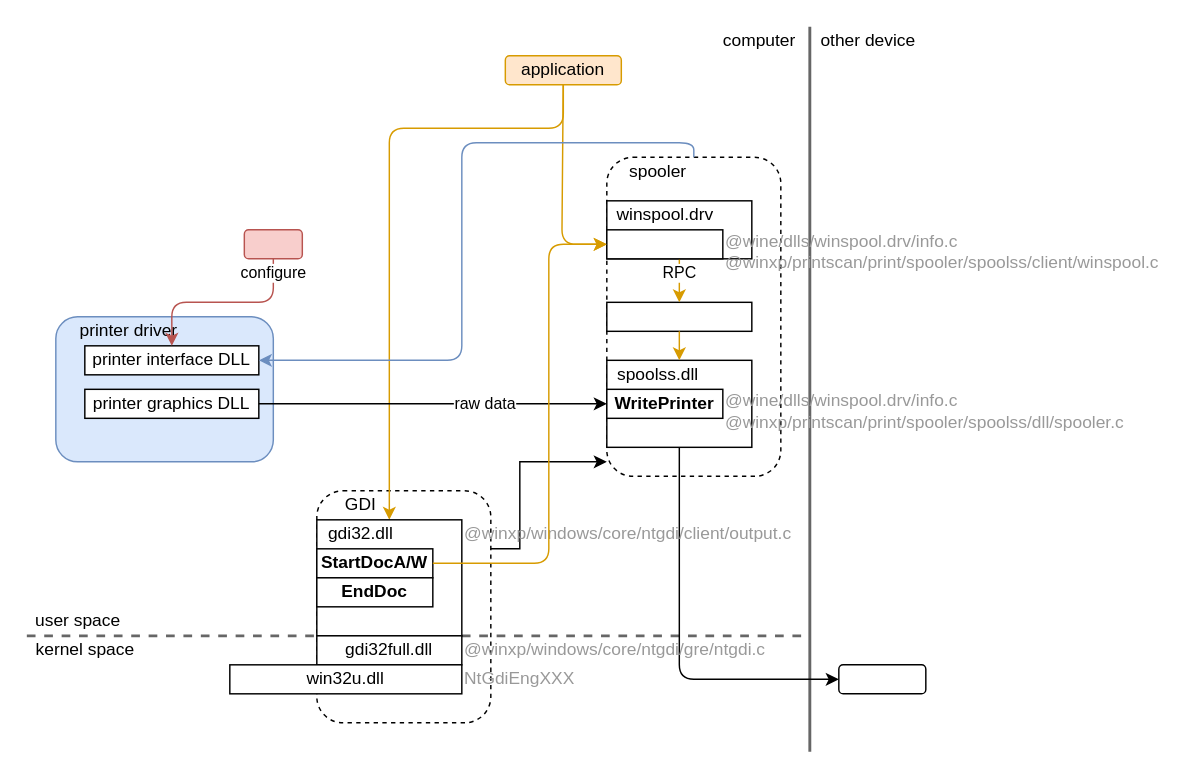
The diagram is 1196 pixels wide and 779 high, and some of its shapes have lost their labels. The shapes that lost their labels are listed below. From the top down, each one's box as (x1, y1, x2, y2) in pixels, then its label:
(243, 228, 302, 259): user
(605, 228, 723, 259): StartDocDlg
(605, 301, 752, 331): spoolsv.exe
(837, 663, 926, 694): printer
